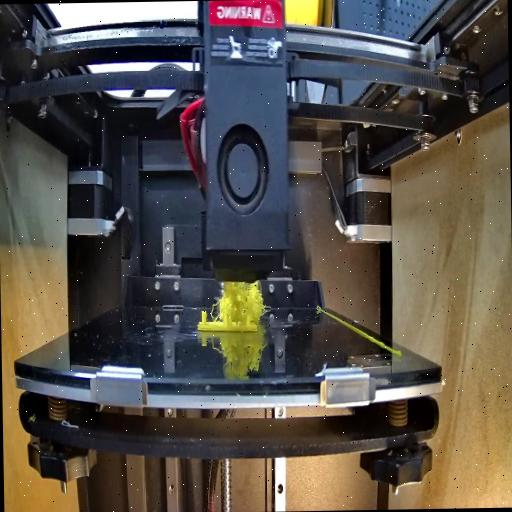spaghetti: (210, 280, 268, 323)
